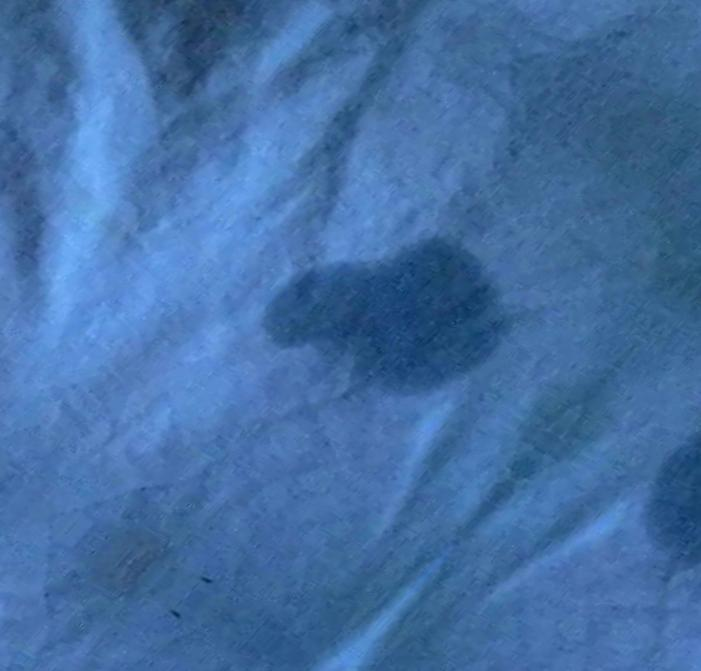stain: (247, 234, 523, 397), (642, 426, 701, 577)
